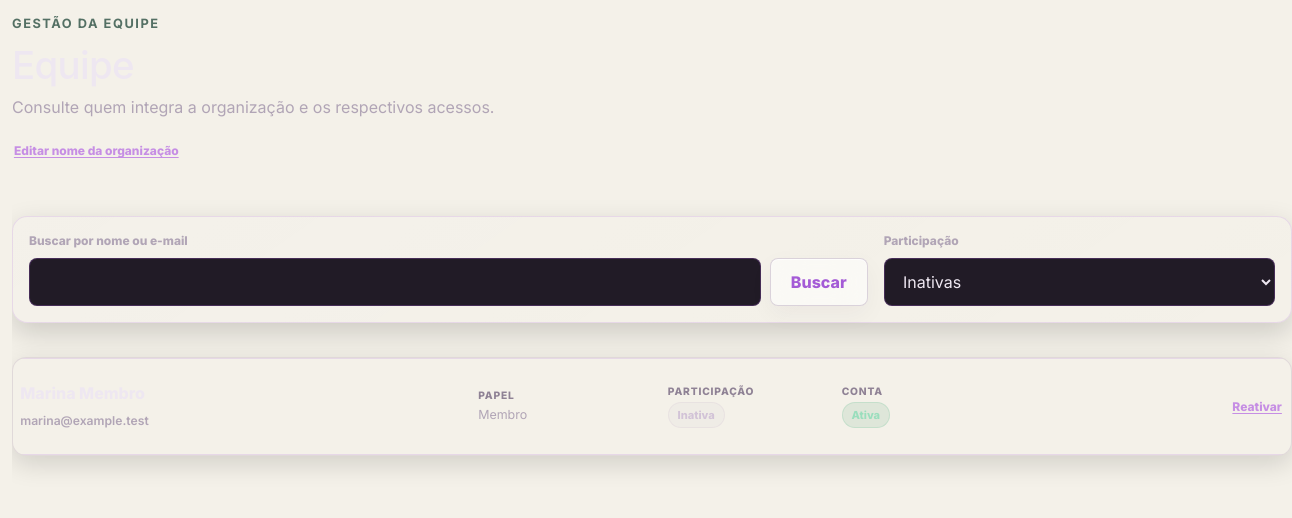
Test case: team administration flow › Reactivate_UsesServerMutationWithoutAConfirmationDialog
Click the button "Reativar". click: x=1257, y=406
box: [1230,387,1284,426]
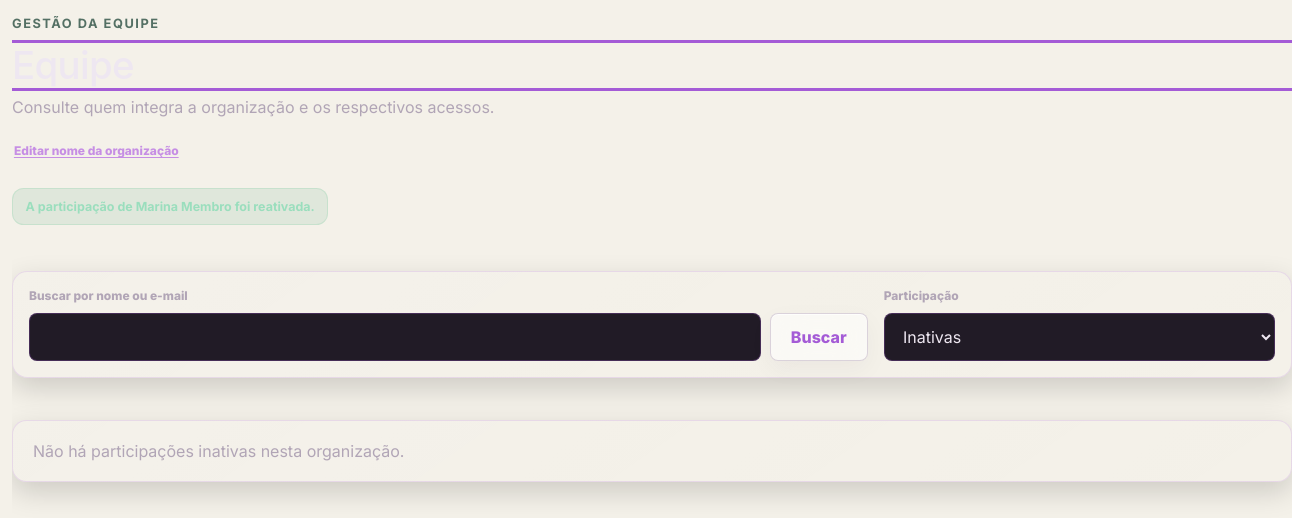
Expected: the text "A participação de Marina Membro foi reativada." is shown, [12,188,328,225]
